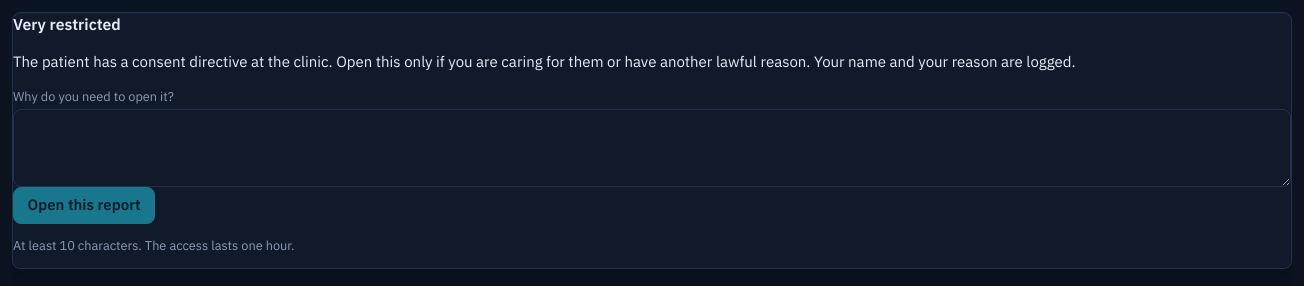
it: RestrictedGate › names the label and asks for a reason of at least ten characters before it opens anything
Later steps or results of the test are not shown.
Expected: the heading "Very restricted" is shown, [13,14,121,34]
Expected: the button "Open this report" is disabled, [13,186,155,224]
In the text box labelled "Why do you need to open it?": (652, 148) [13,109,1291,187], type "short"
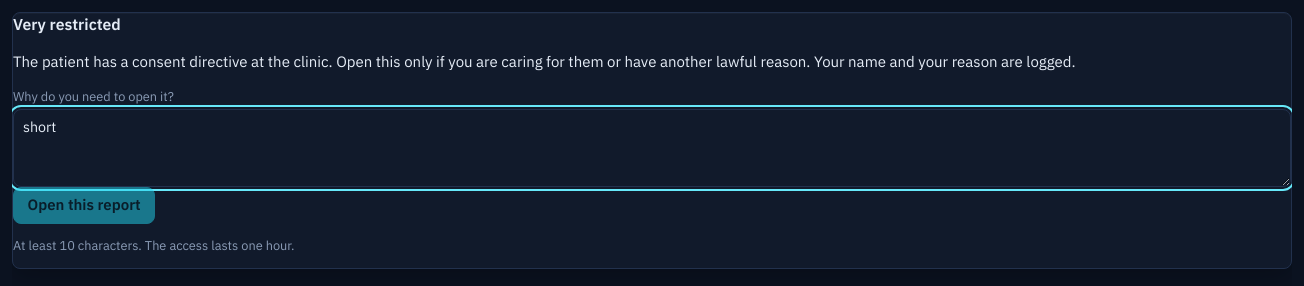
Expected: the button "Open this report" is disabled, [13,186,155,224]
In the text box labelled "Why do you need to open it?": (652, 148) [13,109,1291,187], type " but now long enough "
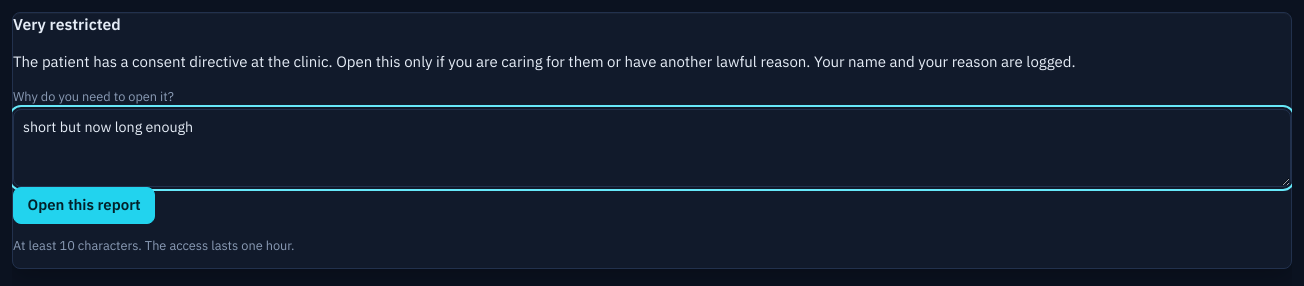
Now the button "Open this report" is enabled, box [13,186,155,224]
